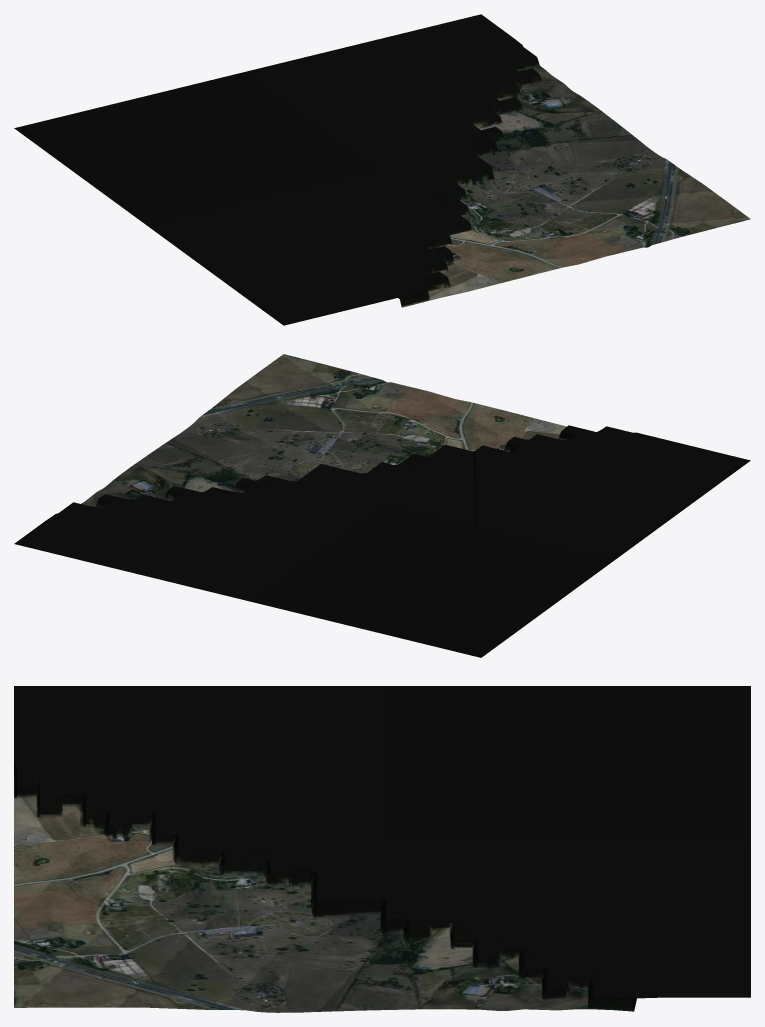
The model's file is map_10_248_428.dae.
3 renders of one model, top to bottom at view 1: azimuth 30°, elevation 25°; view 2: azimuth 150°, elevation 25°; view 3: azimuth 270°, elevation 25°, orthographic. The views are drawn at different scales.
Visible parts, largest first — view 1: Ter0; view 2: Ter0; view 3: Ter0.
Boxes of the visible parts, x1,y1,x2,y2 form: Ter0: (14, 14, 750, 325); Ter0: (14, 354, 750, 657); Ter0: (14, 686, 750, 1012).
Bounding box in the file's own units: 2044 × 2044 × 56.32.
Materials: 3 (3 with a texture image).
